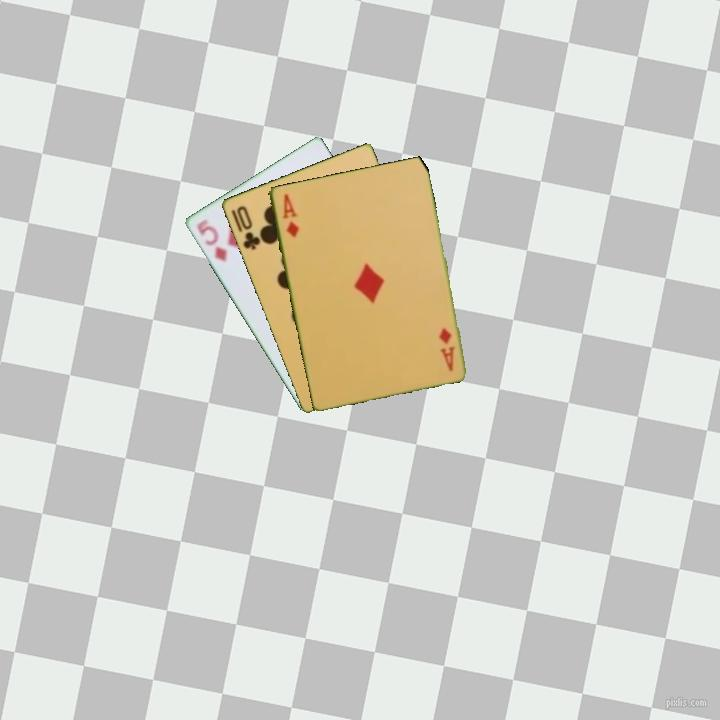10c: (233, 202, 263, 252)
5d: (193, 215, 229, 265)
Ad: (278, 190, 301, 240), (435, 324, 457, 374)
